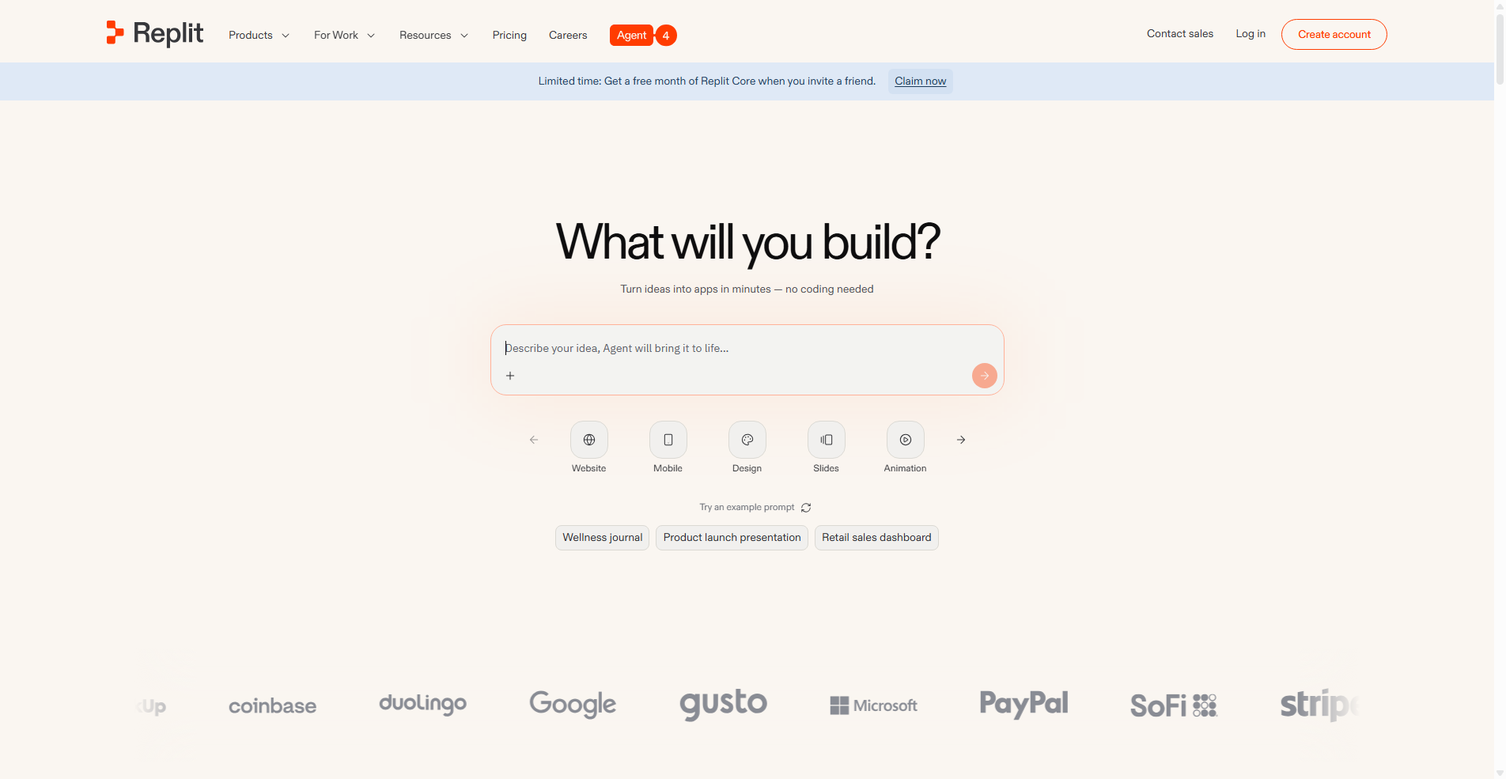button: (656, 525, 808, 550), (1282, 19, 1387, 50), (815, 525, 939, 550), (555, 525, 650, 550), (393, 23, 477, 48), (1141, 22, 1220, 47), (222, 23, 298, 48), (308, 23, 384, 48), (888, 69, 953, 94), (570, 420, 608, 458), (649, 420, 687, 458), (728, 420, 766, 458), (807, 420, 845, 458), (886, 420, 924, 458), (965, 420, 1003, 458), (1044, 420, 1082, 458), (1124, 420, 1162, 458), (1203, 420, 1241, 458), (543, 23, 594, 48), (486, 23, 533, 48), (1229, 22, 1272, 47), (497, 363, 522, 388), (972, 363, 997, 388), (522, 428, 545, 451), (950, 428, 972, 451), (798, 500, 814, 515)
dropdown: (393, 48, 512, 252), (222, 48, 341, 229)
link: (327, 110, 502, 172), (327, 62, 502, 110), (720, 92, 863, 118), (720, 121, 863, 147), (720, 151, 863, 177), (720, 180, 863, 206), (720, 209, 863, 235), (888, 92, 1031, 118), (888, 121, 1031, 147), (553, 92, 695, 118), (553, 121, 695, 147), (553, 151, 695, 177), (107, 21, 203, 48), (229, 55, 334, 79), (229, 79, 334, 103), (229, 103, 334, 127), (229, 150, 334, 174), (229, 174, 334, 198), (400, 55, 505, 79), (400, 79, 505, 103), (400, 103, 505, 127), (400, 150, 505, 174), (400, 174, 505, 198), (400, 221, 505, 245), (229, 127, 334, 150), (229, 198, 334, 221), (400, 127, 505, 150), (400, 198, 505, 221), (610, 25, 677, 47)
textarea: (500, 334, 994, 356)
